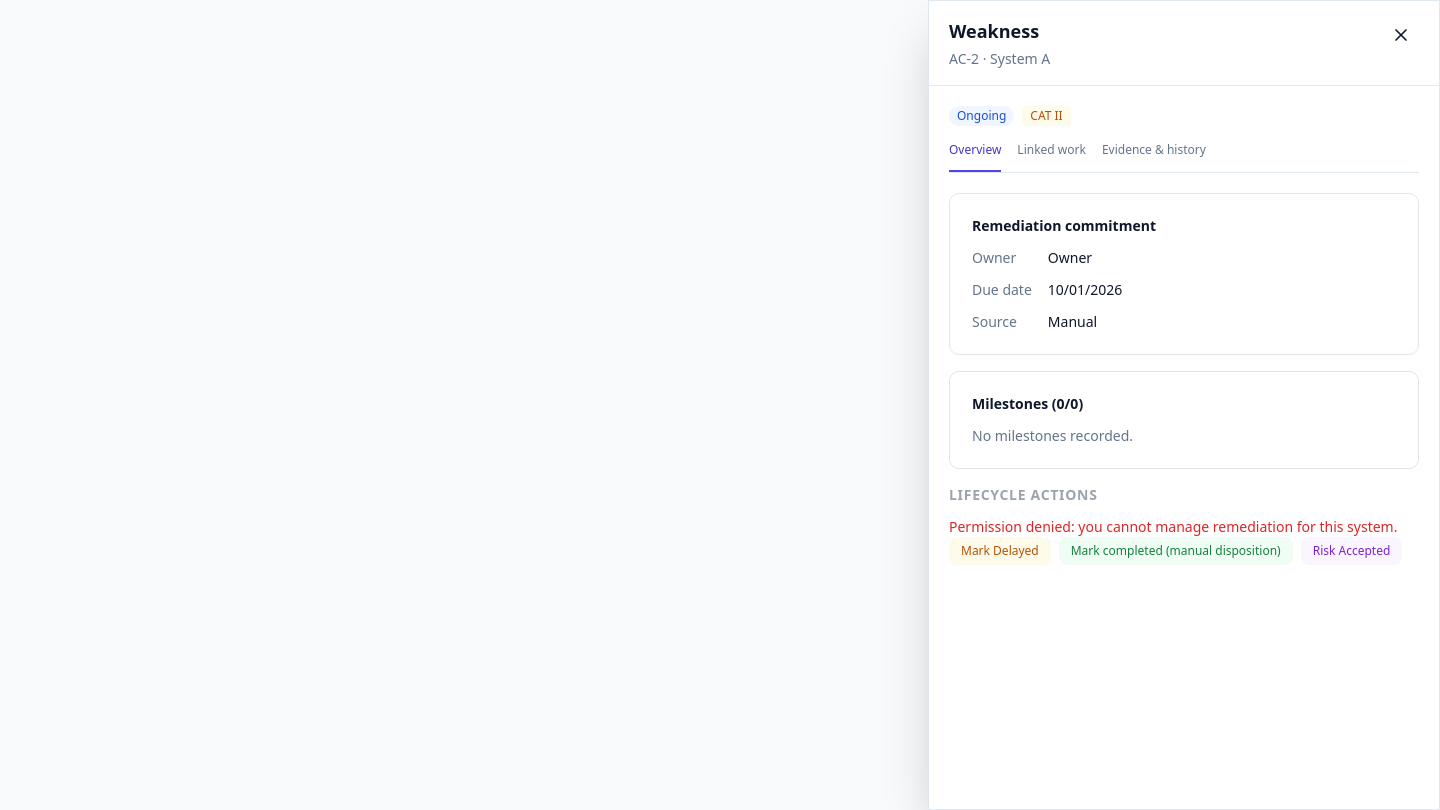
Test case: #1017 POA&M domain mutation permissions › disables component linkage for readers and exposes no legacy ticket mutations
This screenshot has width=1440, height=810.
Click the button "Linked work": (1052, 157) x1=1017 y1=142 x2=1086 y2=172
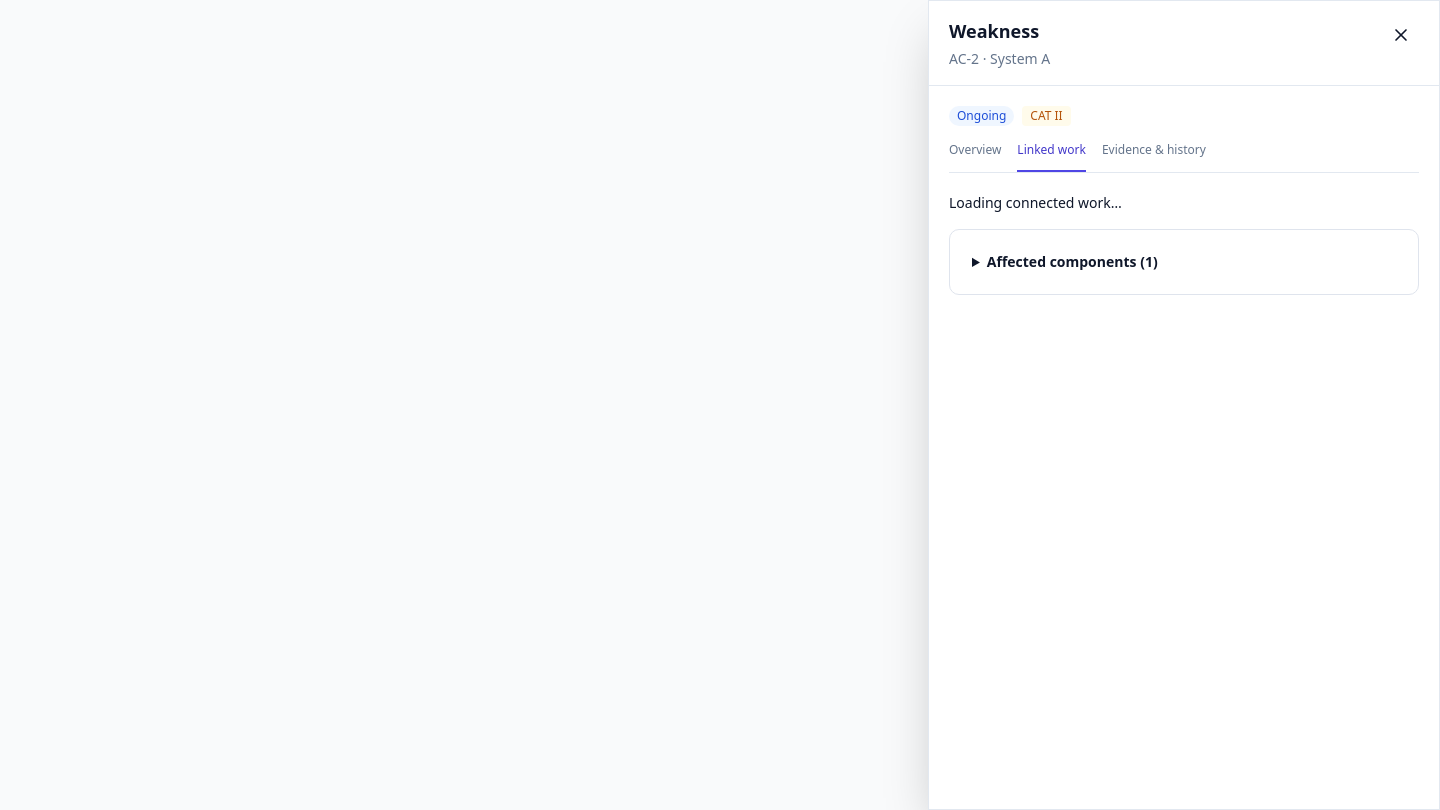
Click the heading "Affected components (1)": (1072, 262) x1=987 y1=252 x2=1158 y2=271
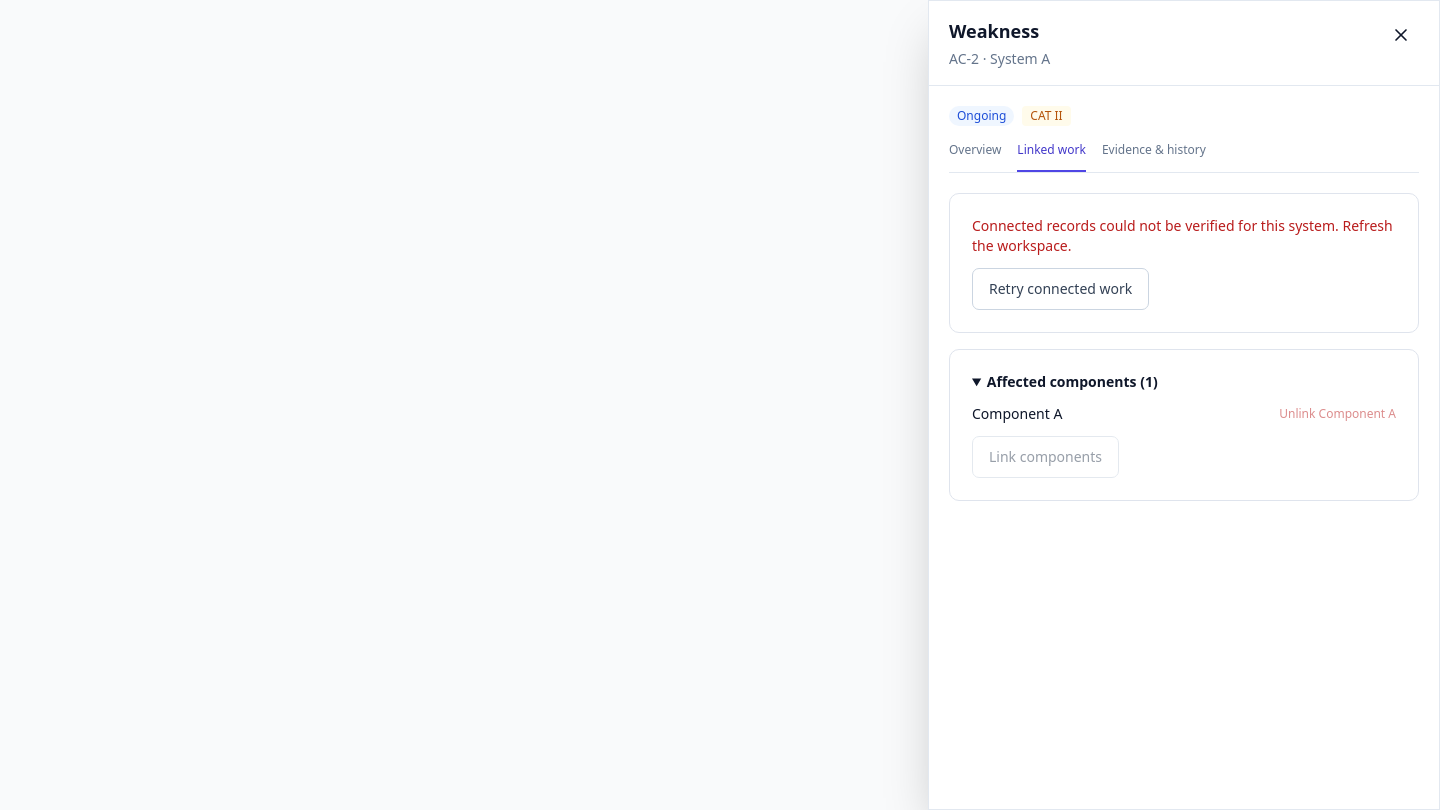
Check: the button "Link components" is disabled, box x1=972 y1=436 x2=1119 y2=478
Check: the button "Unlink Component A" is disabled, box x1=1279 y1=406 x2=1396 y2=422
